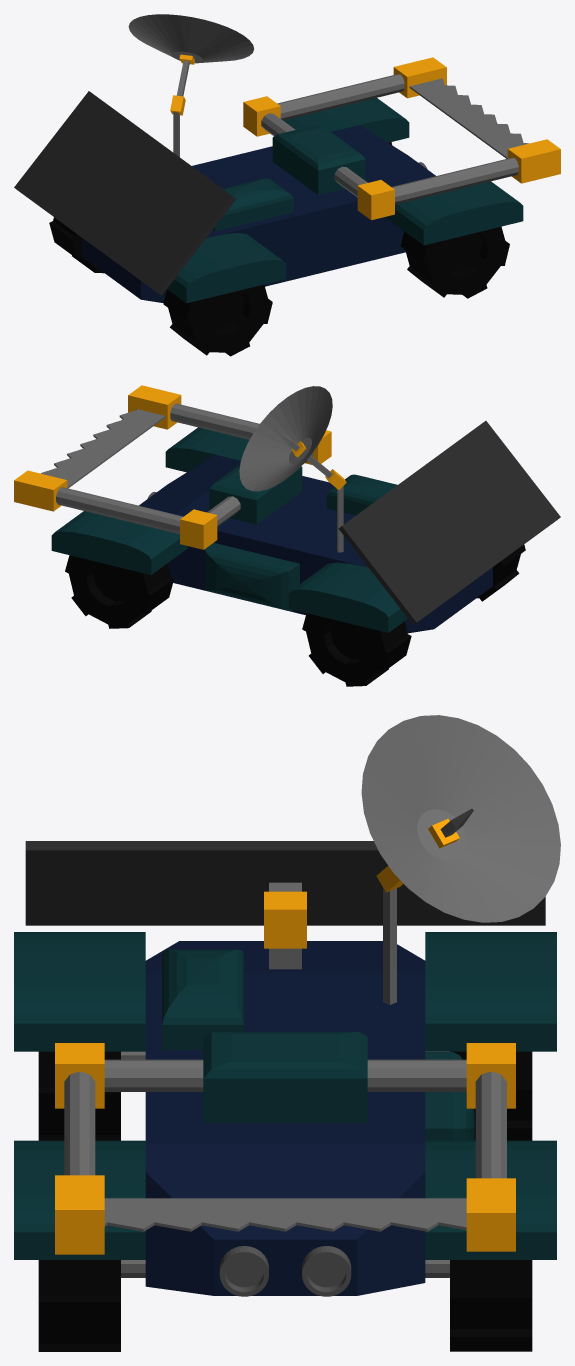
File: Rover_v1.glb
3 renders of one model, top to bottom at view 1: azimuth 30°, elevation 25°; view 2: azimuth 150°, elevation 25°; view 3: azimuth 270°, elevation 25°, orthographic. The views are drawn at different scales.
Visible parts, largest first — view 1: Rover; view 2: Rover; view 3: Rover.
Part boxes in pixels (box(x1,y1,x2,y2)): Rover: box(14, 14, 560, 356); Rover: box(14, 385, 560, 686); Rover: box(14, 715, 560, 1351).
Size of the model in its own units: 5.2 by 3.08 by 3.32.
